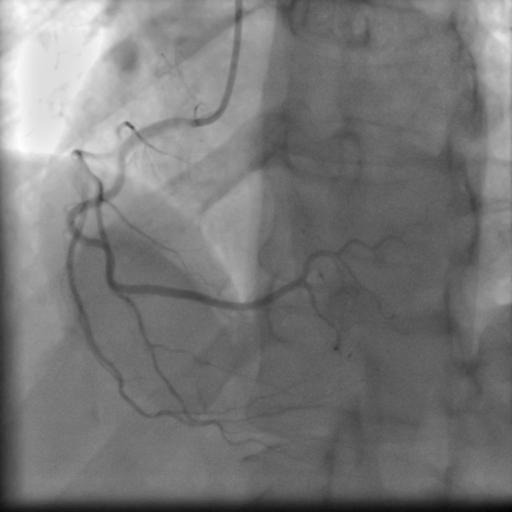Stenosis: (84, 233, 114, 263)
